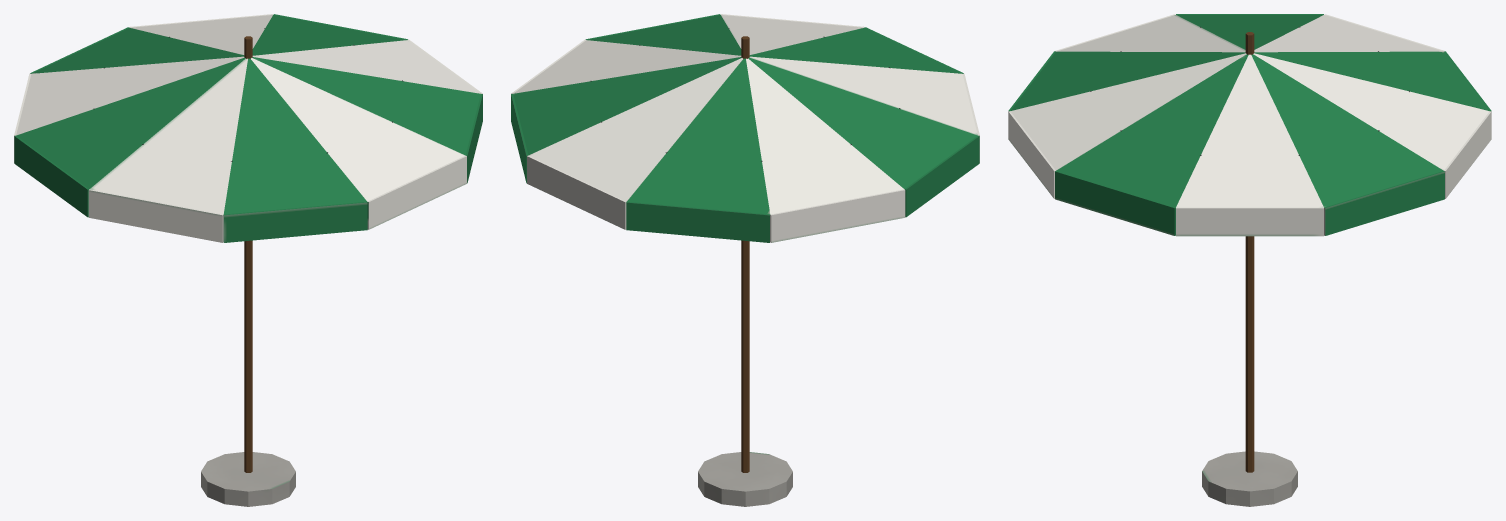
File: slunecnik_1f170538.glb
3 renders of one model, left to right at view 1: azimuth 30°, elevation 25°; view 2: azimuth 150°, elevation 25°; view 3: azimuth 270°, elevation 25°, orthographic.
Parts seen in each view (by area): view 1: dum; view 2: dum; view 3: dum.
Boxes of the visible parts, x1,y1,x2,y2 form: dum: [14, 14, 482, 506]; dum: [511, 14, 979, 506]; dum: [1008, 14, 1491, 506].
Size of the model in its own units: 2.68 by 2.91 by 2.82.
1 material, 1 textured.
